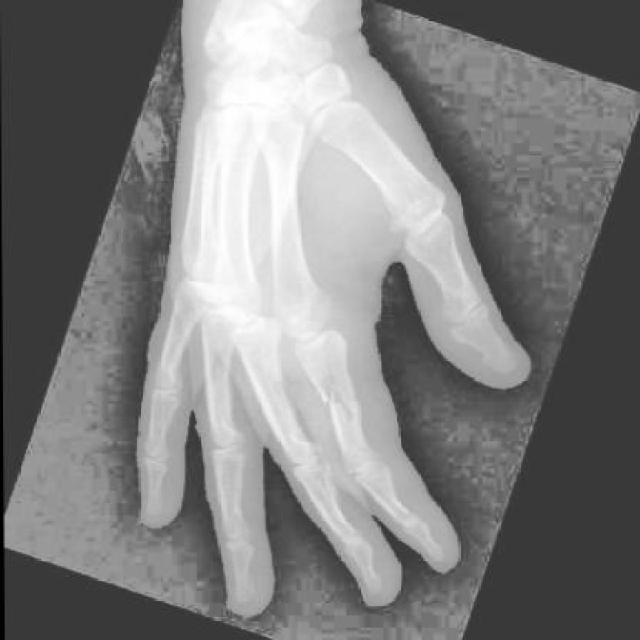Fracture: (295, 357, 390, 470)
